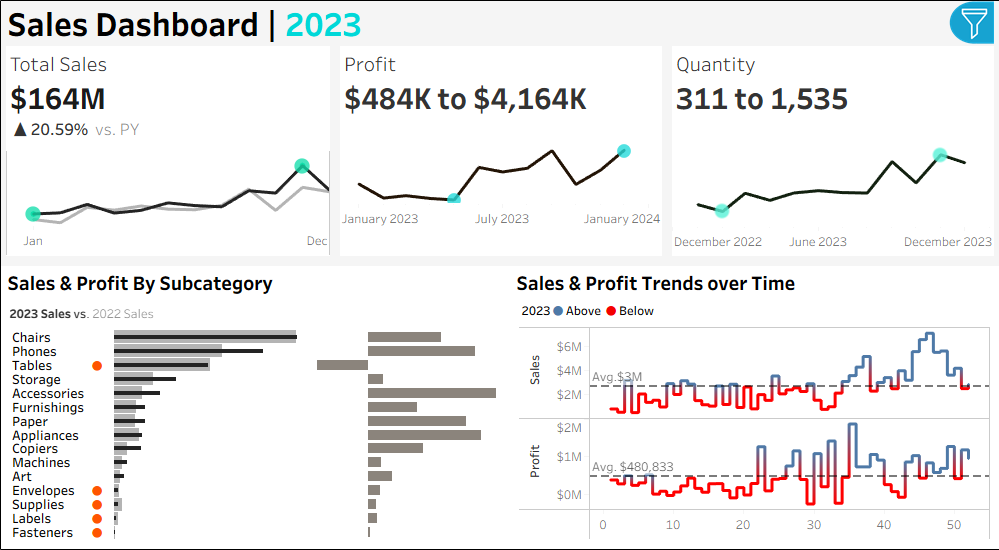

What the dashboard file says about the page in this screenshot:
{"tool":"tableau","page":{"name":"Dashboard 1","canvas":[1000,550],"ordinal":0},"visuals":[{"type":"dashboard-object","box":[944,0,54,45]},{"type":"text","box":[1,1,998,45]},{"type":"text","box":[830,6,164,34]},{"type":"parameter","param":"[Parameters].[Parameter 1]","box":[830,40,164,52]},{"type":"worksheet","title":"KPI Sales","mark":"Automatic","rows":["Calculation_193091841772195844"],"cols":["Order Date"],"box":[1,46,334,215]},{"type":"worksheet","title":"KPI Profit","mark":"Automatic","rows":["Calculation_193091841993965577","Calculation_193091841996693520"],"cols":["Order Date"],"box":[335,46,332,215]},{"type":"worksheet","title":"KPI Quantity","mark":"Line","rows":["Calculation_193091841994391563","Calculation_193091841997049873"],"cols":["Order Date"],"box":[667,46,332,215]},{"type":"filter","title":"KPI Sales","param":"[federated.1w3bdjb1ofoh0a1cbz8eo09x9y55].[none:Category:nk]","box":[830,92,164,52]},{"type":"filter","title":"KPI Sales","param":"[federated.1w3bdjb1ofoh0a1cbz8eo09x9y55].[none:Sub-Category:nk]","box":[830,144,164,52]},{"type":"filter","title":"KPI Sales","param":"[federated.1w3bdjb1ofoh0a1cbz8eo09x9y55].[none:Region:nk]","box":[830,196,164,52]},{"type":"filter","title":"KPI Sales","param":"[federated.1w3bdjb1ofoh0a1cbz8eo09x9y55].[none:State:nk]","box":[830,248,164,52]},{"type":"text","box":[1,266,509,32]},{"type":"text","box":[510,266,489,32.1]},{"type":"worksheet","title":"Legend Subcategory","mark":"Automatic","box":[1,298,509,32]},{"type":"text","box":[515,298.1,479,25]},{"type":"filter","title":"KPI Sales","param":"[federated.1w3bdjb1ofoh0a1cbz8eo09x9y55].[none:City:nk]","box":[830,300,164,52]},{"type":"worksheet","title":"Weekly Trends ","mark":"Automatic","rows":["Calculation_193091841738231808","Calculation_193091841993965577"],"cols":["Order Date"],"box":[515,323.1,479,220.9]},{"type":"worksheet","title":"Subcategory Comparison","mark":"Bar","rows":["Sub-Category","Calculation_193091842127880215"],"cols":["CY Sales (copy)_193091841739165697","Calculation_193091841738231808","Calculation_193091841993965577"],"box":[1,330,509,214]}]}

Visuals, with their boxes in screenshot pixels (x1, y1, x2, y2), scaled from the page's 1000x550 canvas onto the 999x550 screenshot:
dashboard-object: [left=943, top=0, right=997, bottom=45]
text: [left=1, top=1, right=998, bottom=46]
text: [left=829, top=6, right=993, bottom=40]
parameter: [left=829, top=40, right=993, bottom=92]
"KPI Sales" worksheet: [left=1, top=46, right=335, bottom=261]
"KPI Profit" worksheet: [left=335, top=46, right=666, bottom=261]
"KPI Quantity" worksheet (Line marks): [left=666, top=46, right=998, bottom=261]
"KPI Sales" filter: [left=829, top=92, right=993, bottom=144]
"KPI Sales" filter: [left=829, top=144, right=993, bottom=196]
"KPI Sales" filter: [left=829, top=196, right=993, bottom=248]
"KPI Sales" filter: [left=829, top=248, right=993, bottom=300]
text: [left=1, top=266, right=509, bottom=298]
text: [left=509, top=266, right=998, bottom=298]
"Legend Subcategory" worksheet: [left=1, top=298, right=509, bottom=330]
text: [left=514, top=298, right=993, bottom=323]
"KPI Sales" filter: [left=829, top=300, right=993, bottom=352]
"Weekly Trends " worksheet: [left=514, top=323, right=993, bottom=544]
"Subcategory Comparison" worksheet (Bar marks): [left=1, top=330, right=509, bottom=544]
